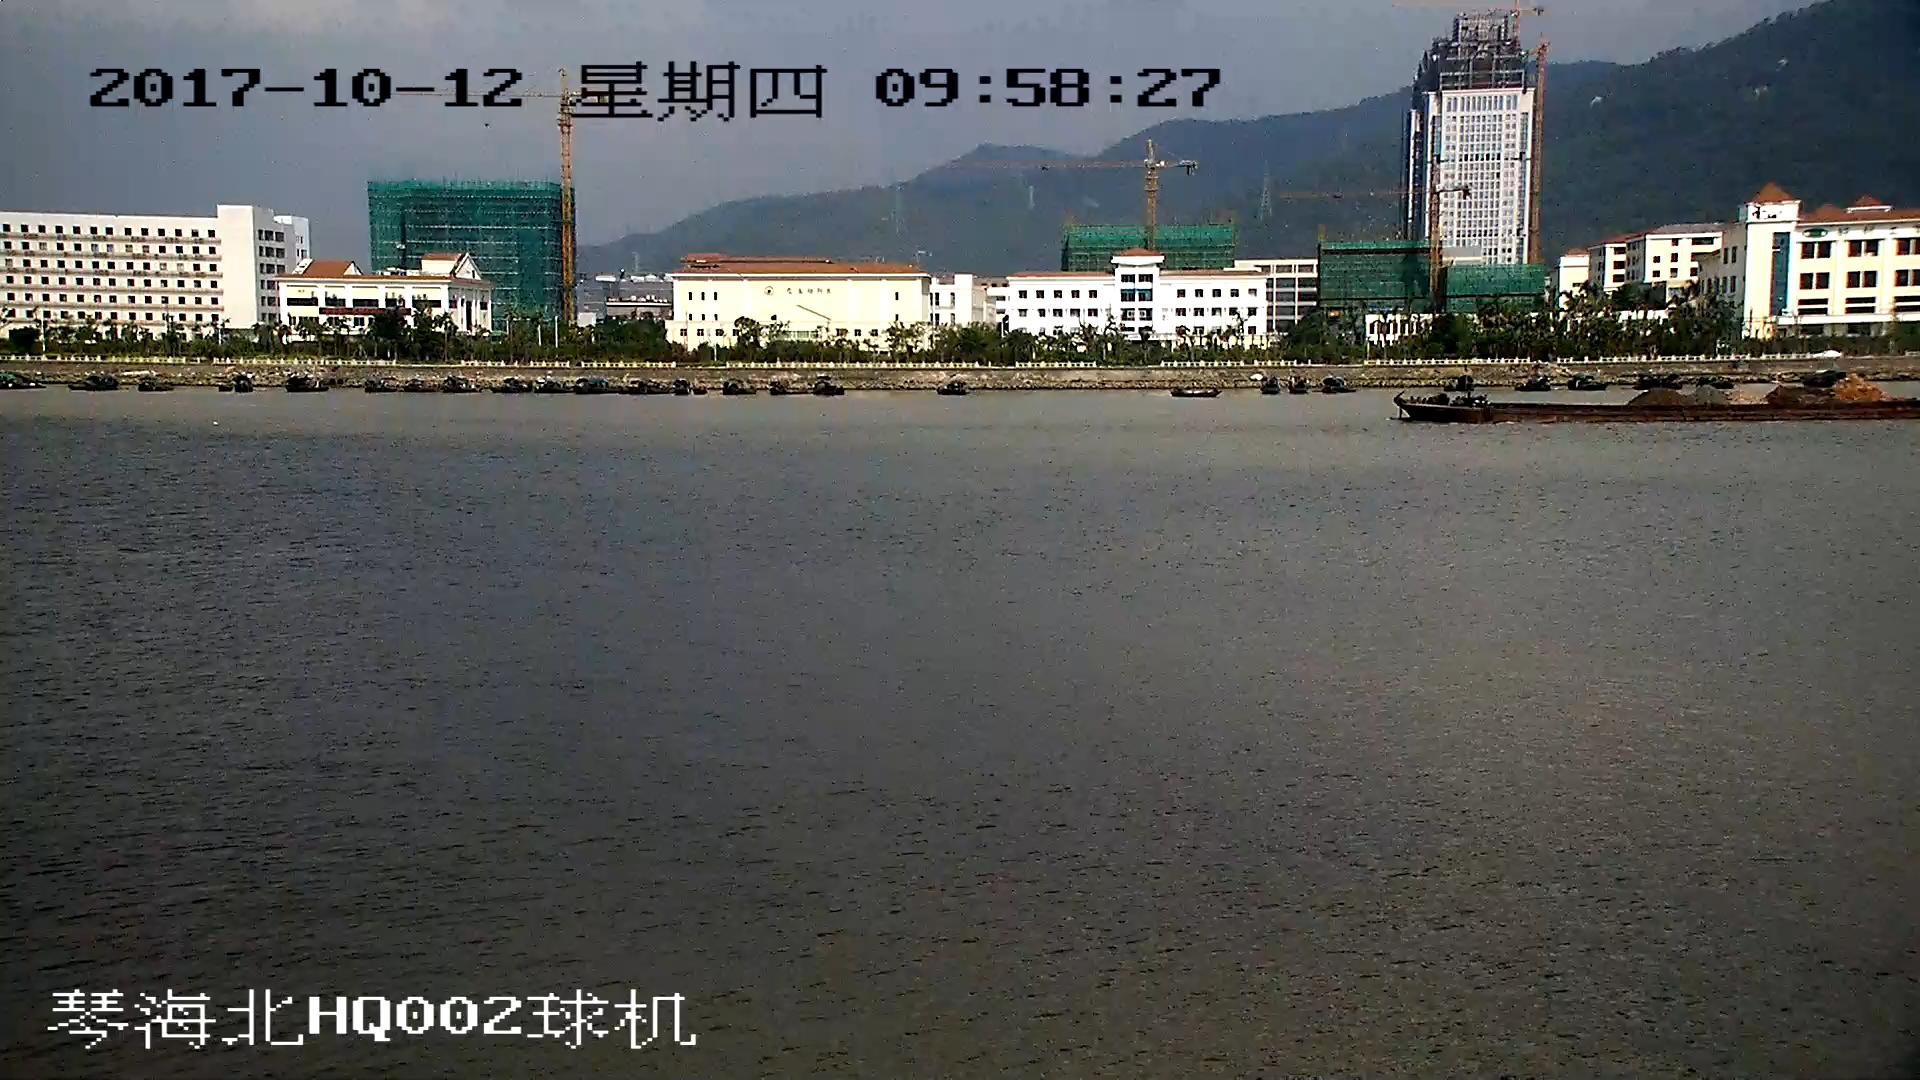ore carrier: (1393, 376, 1920, 422)
